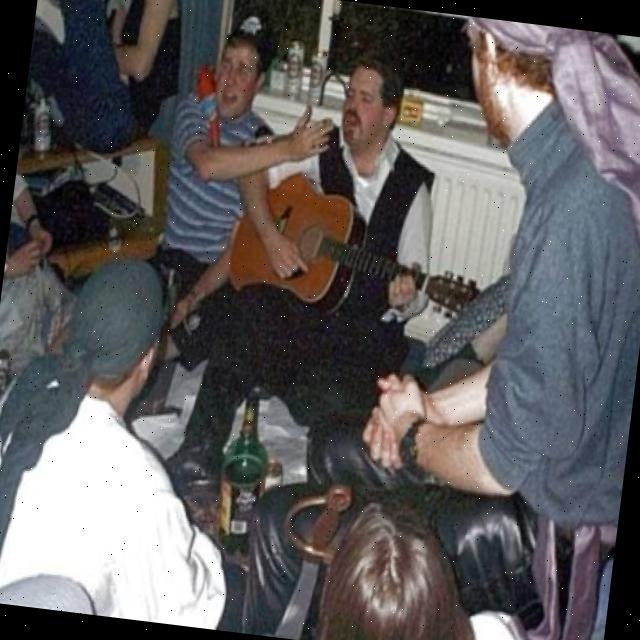guitar: (223, 161, 497, 334)
